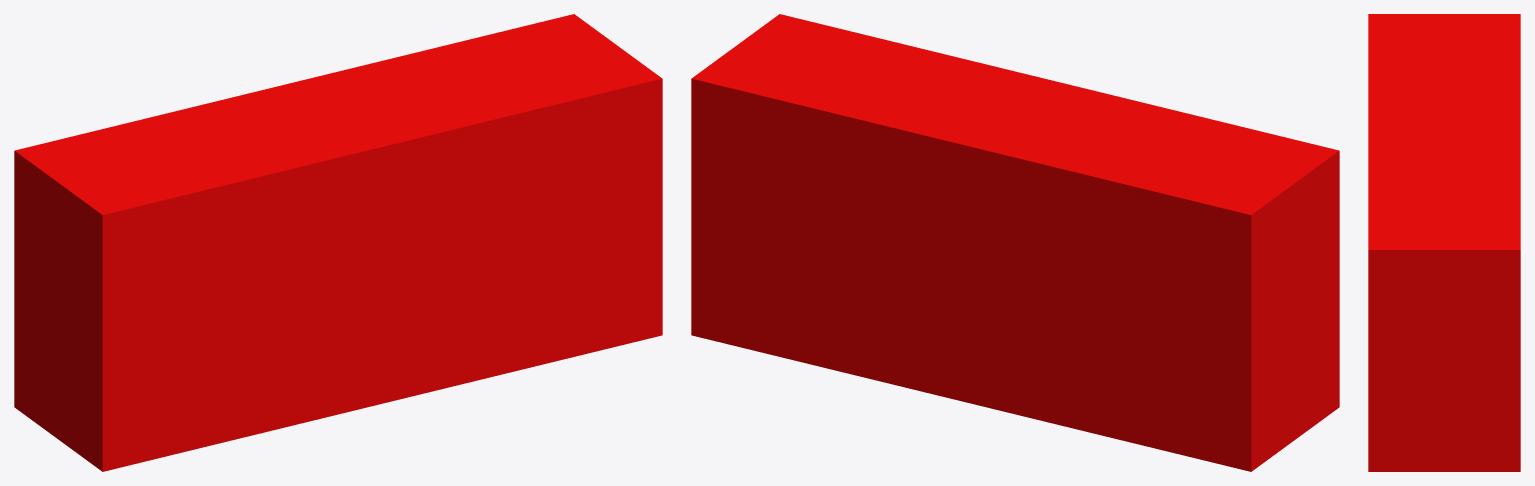
File: r_foot_col2.dae
3 renders of one model, left to right at view 1: azimuth 30°, elevation 25°; view 2: azimuth 150°, elevation 25°; view 3: azimuth 270°, elevation 25°, orthographic. The views are drawn at different scales.
Visible parts, largest first — view 1: node0; view 2: node0; view 3: node0.
Boxes of the visible parts, x1=… form: node0: x1=14, y1=14, x2=662, y2=471; node0: x1=691, y1=14, x2=1339, y2=471; node0: x1=1368, y1=14, x2=1520, y2=471.
Size of the model in its own units: 0.1936 by 0.0529 by 0.0849.
